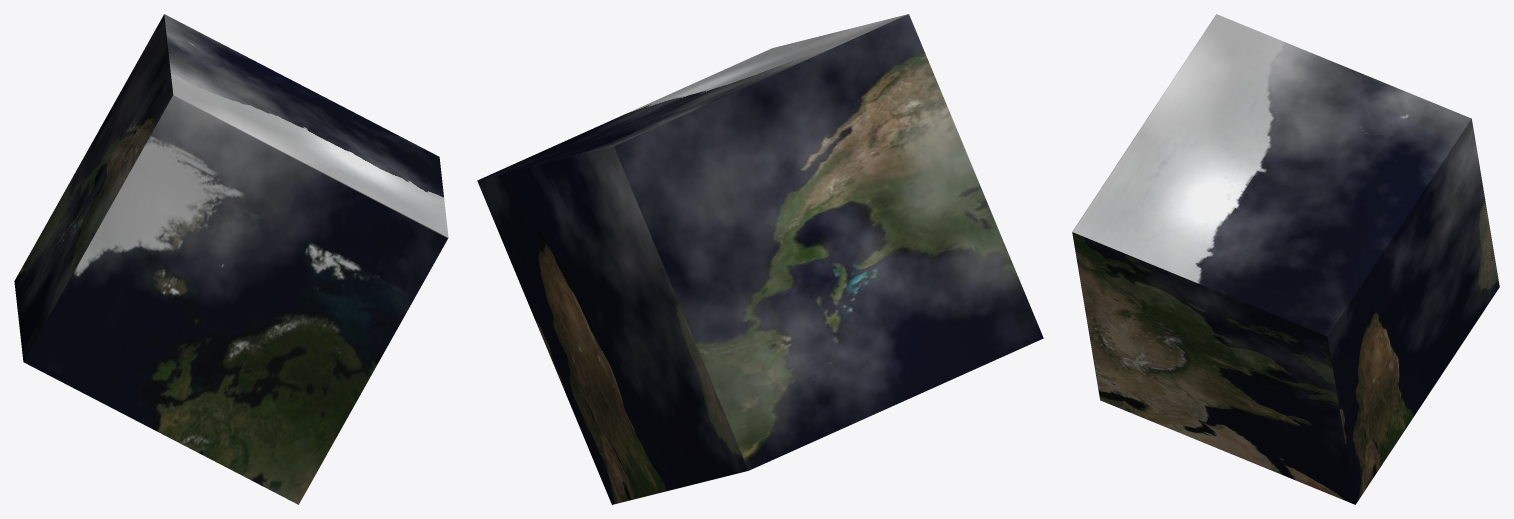
The model's file is test-actor-lod0.glb.
The picture shows the model from 3 angles, left to right: view 1: azimuth 30°, elevation 25°; view 2: azimuth 150°, elevation 25°; view 3: azimuth 270°, elevation 25°; orthographic projection. The views are drawn at different scales.
Visible parts, largest first — view 1: Cube; view 2: Cube; view 3: Cube.
Part boxes in pixels (left/top/right/bottom): Cube: left=14, top=14, right=448, bottom=504; Cube: left=477, top=14, right=1043, bottom=504; Cube: left=1072, top=14, right=1499, bottom=504.
Size of the model in its own units: 96.08 by 85.66 by 82.24.
1 material, 1 textured.
